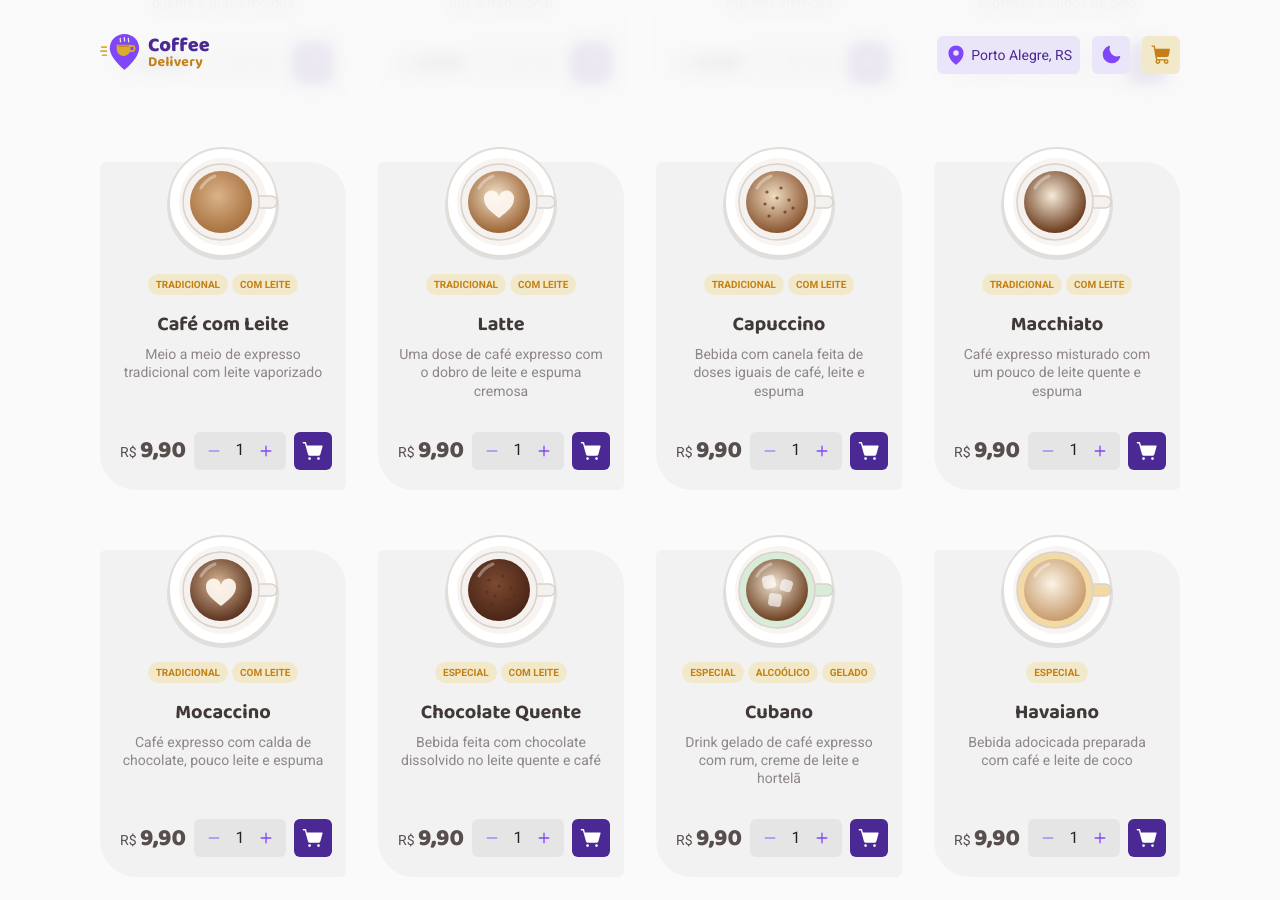
it: Home e catálogo › RF-02/03/04/06: adiciona cafés, soma unidades no badge e persiste
(page scrolled)
Click the button named "aumentar quantidade" below "Latte".
click(544, 451)  # box [532,439,556,463]
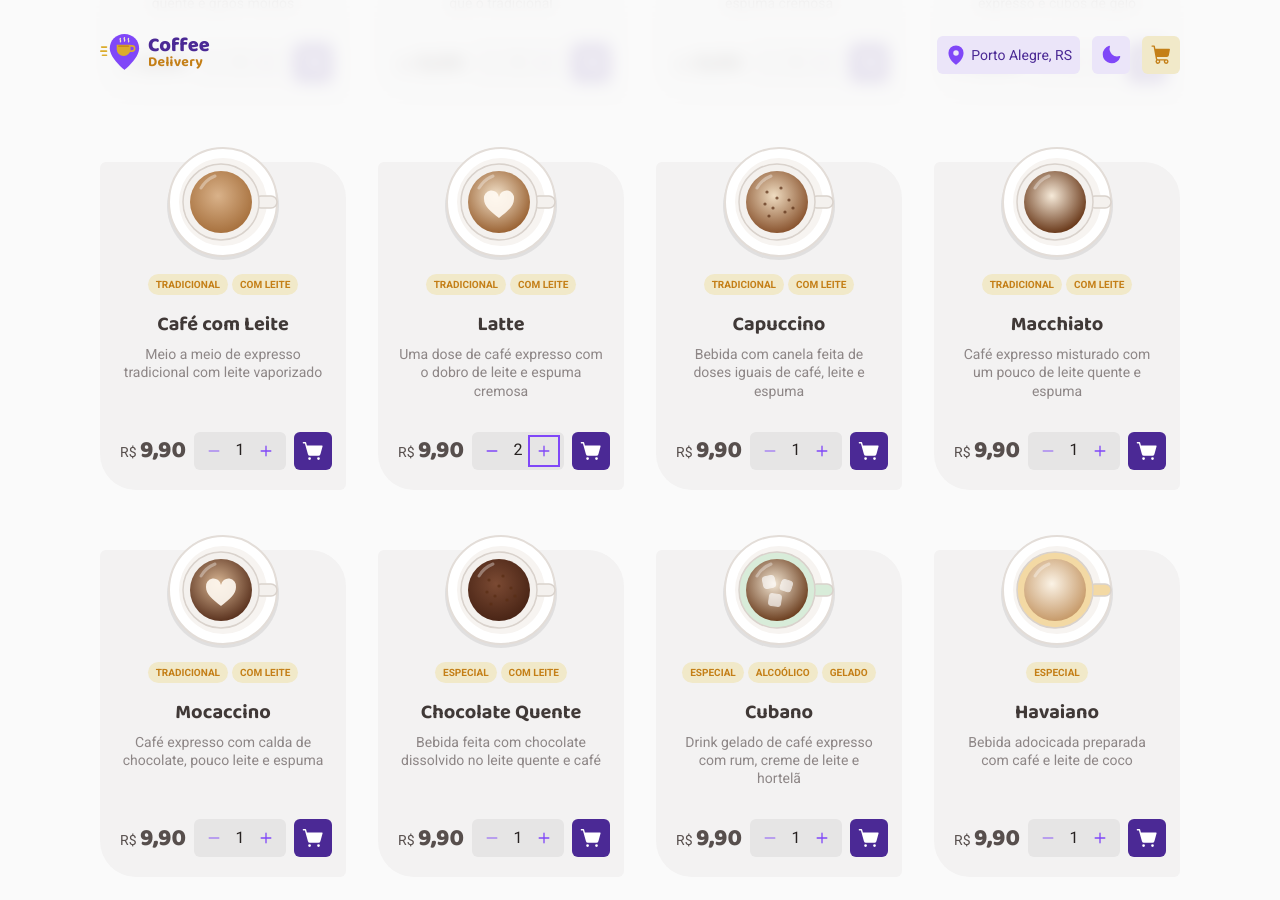
Click the button named "adicionar latte".
click(591, 451)  # box [572,432,610,470]
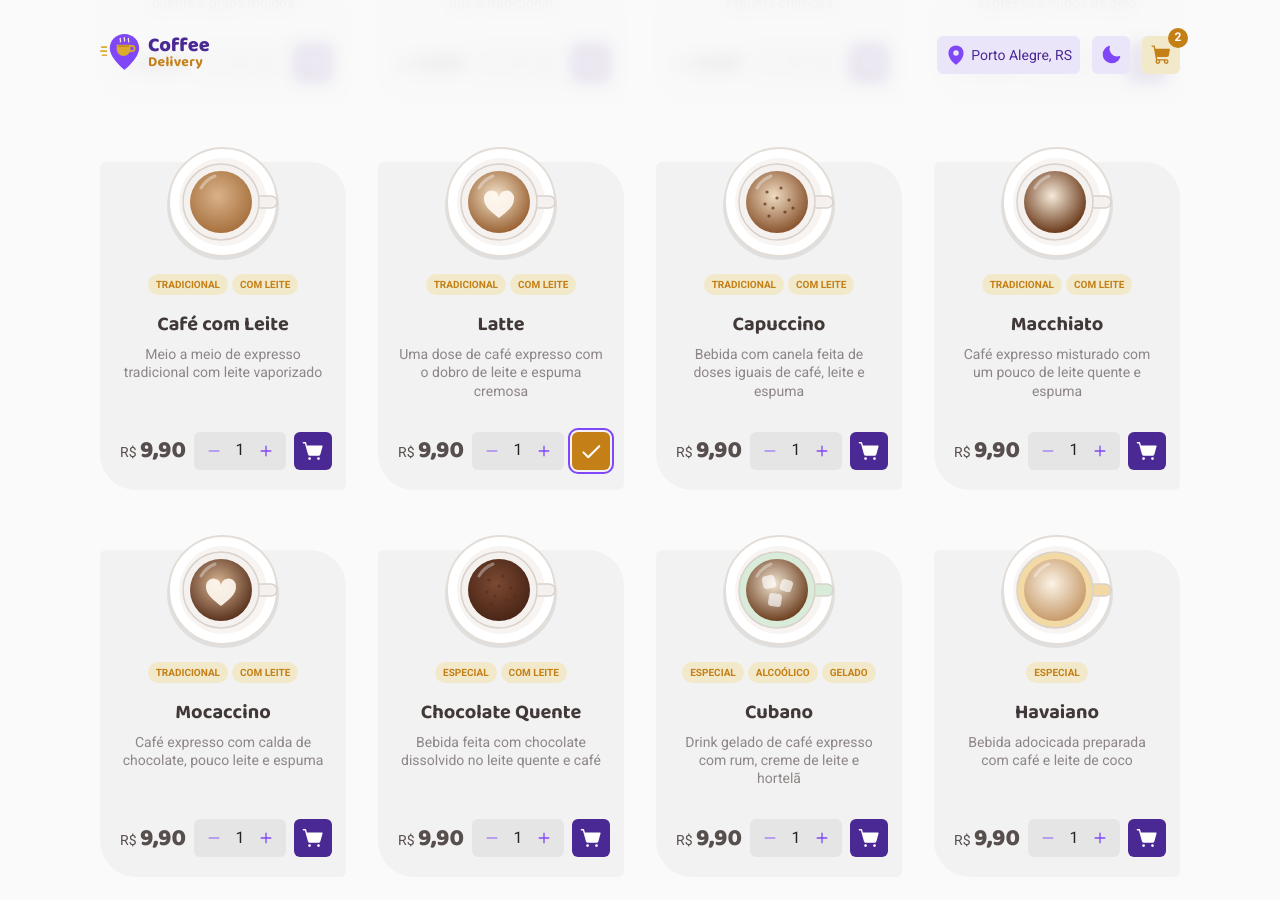
Click the button named "adicionar latte".
click(591, 451)  # box [572,432,610,470]
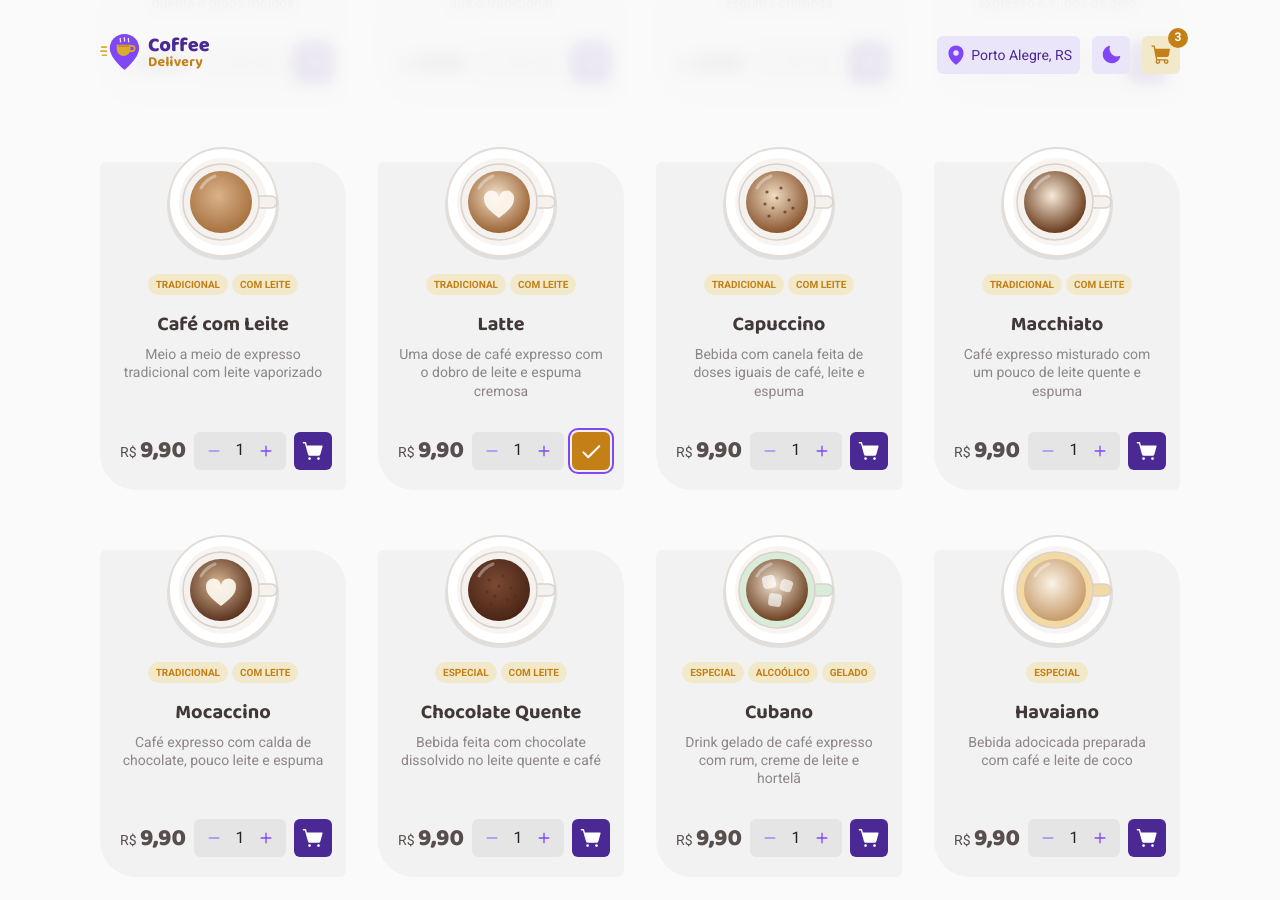
Click the button named "adicionar cubano".
click(869, 838)  # box [850,819,888,857]
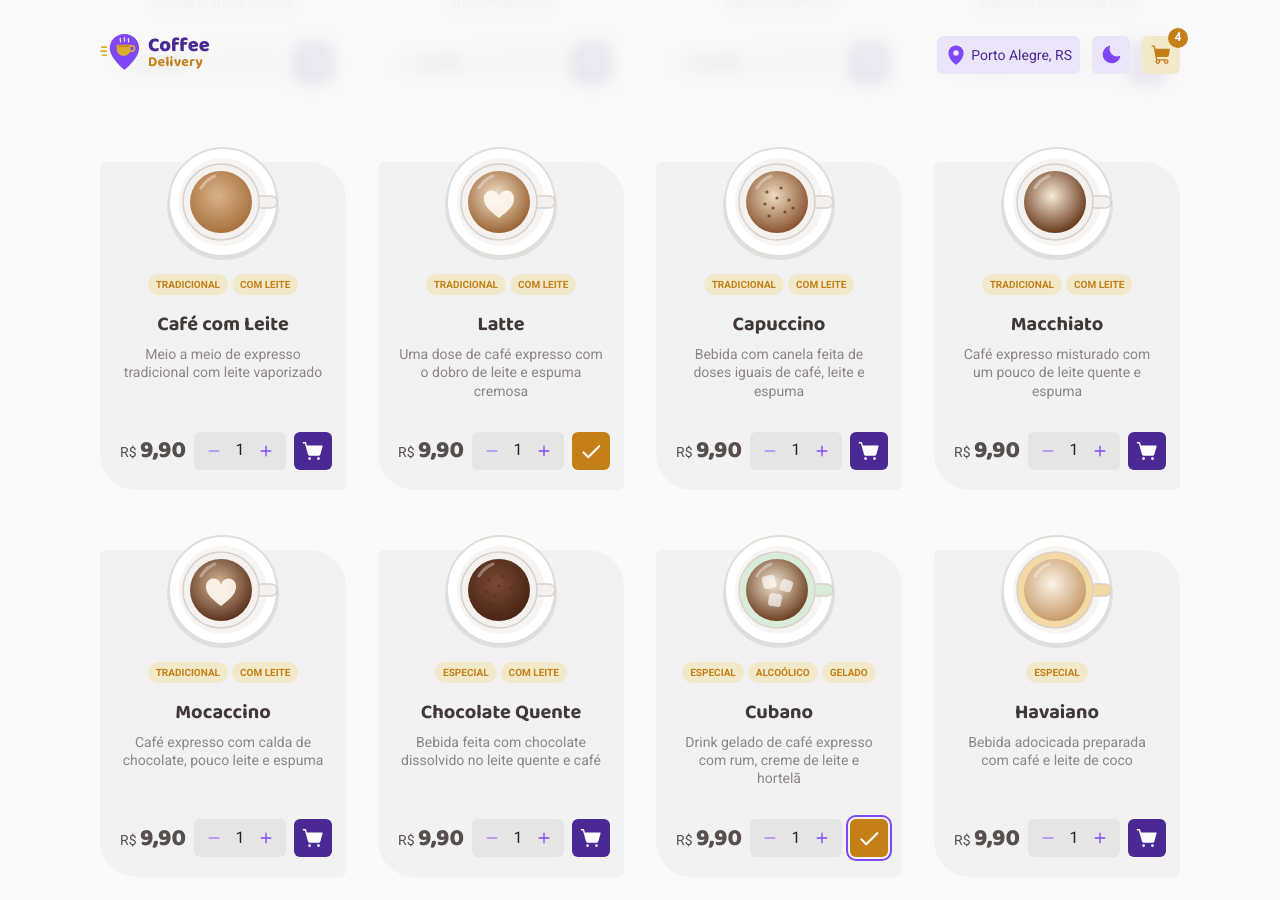
Expected: the text with test id "cart-badge" reads "4", [1174,30,1181,44]
